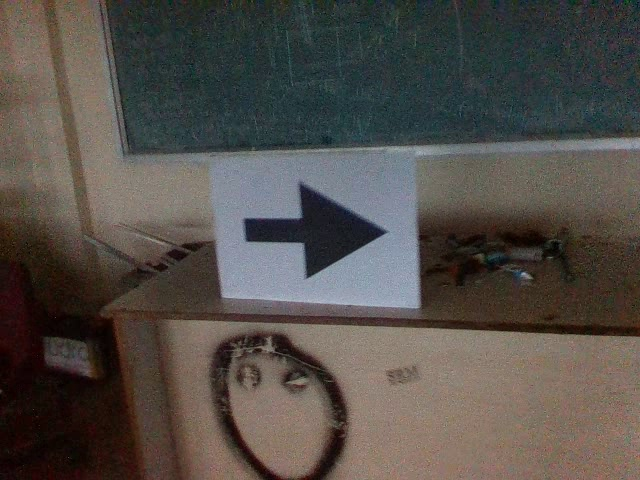Right: (233, 177, 398, 291)
